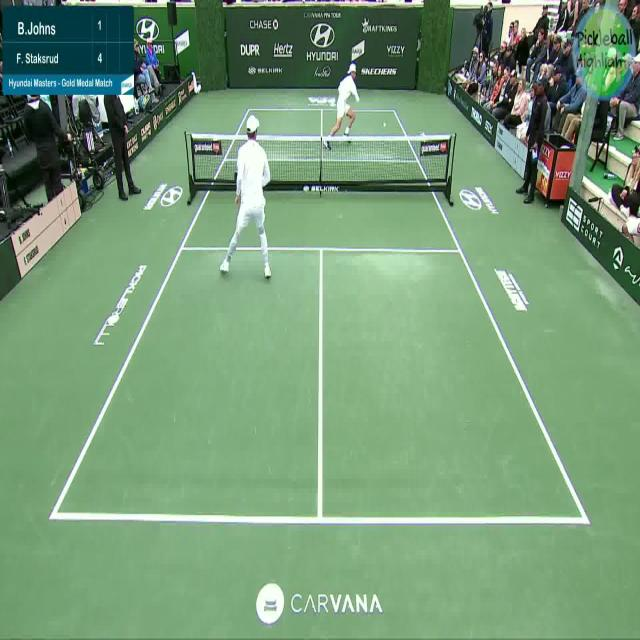ball: (380, 117, 391, 135)
